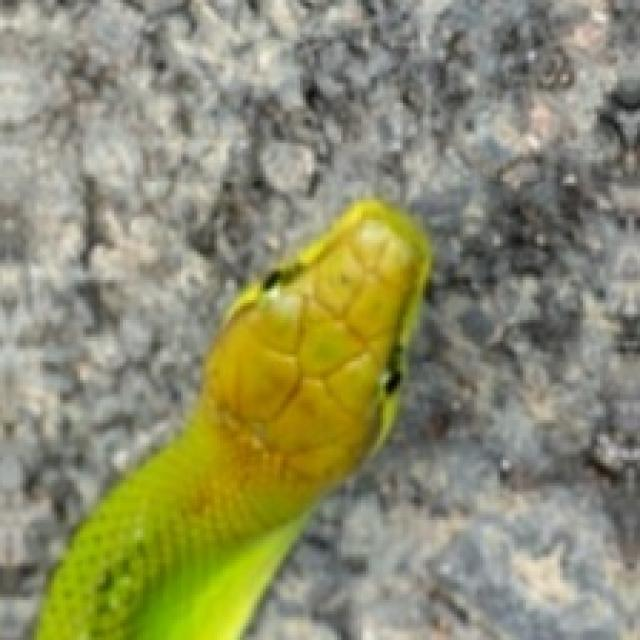red-tailed green ratsnake: (31, 197, 431, 637)
